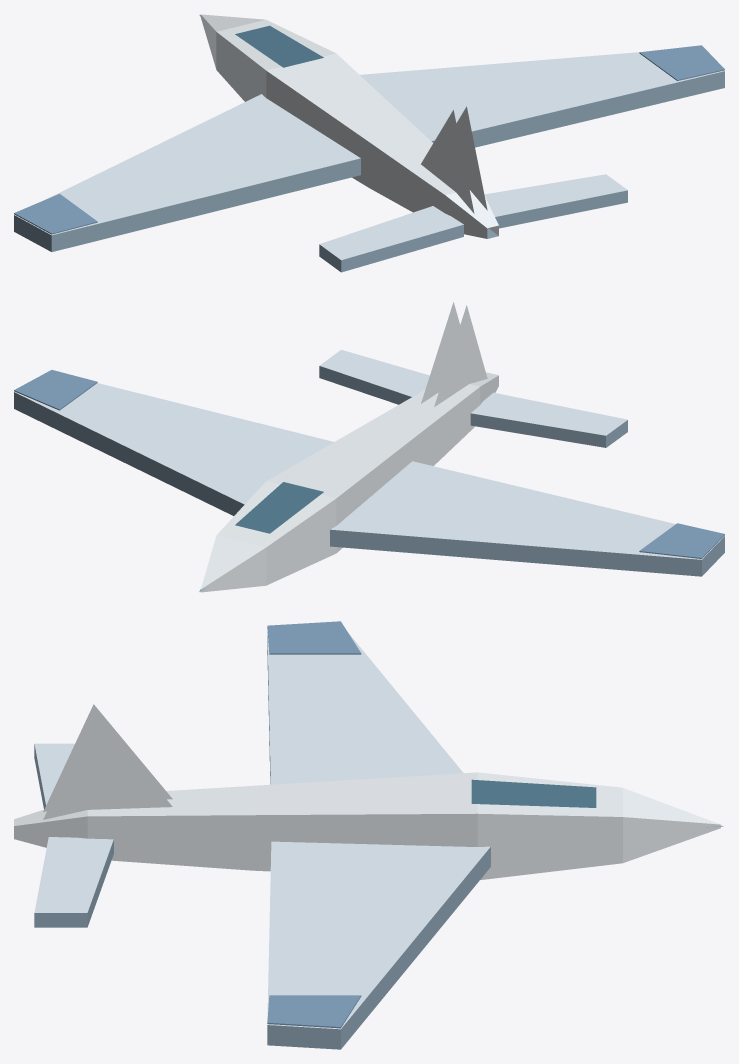
Rendered from fixed-wing.glb.
3 views of the same model, one above another, from view 1: azimuth 30°, elevation 25°; view 2: azimuth 150°, elevation 25°; view 3: azimuth 270°, elevation 25° (orthographic). The views are drawn at different scales.
Parts seen in each view (by area): view 1: fixed-wing-drone; view 2: fixed-wing-drone; view 3: fixed-wing-drone.
Part boxes in pixels (x1,y1,x2,y2): fixed-wing-drone: [14, 14, 724, 272]; fixed-wing-drone: [14, 302, 724, 592]; fixed-wing-drone: [14, 621, 723, 1049].
Size of the model in its own units: 4.7 by 0.82 by 3.48.
